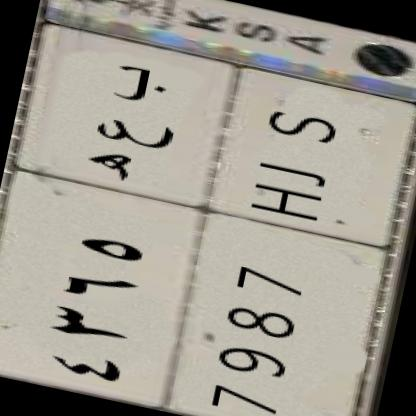english: (157, 52, 416, 416)
